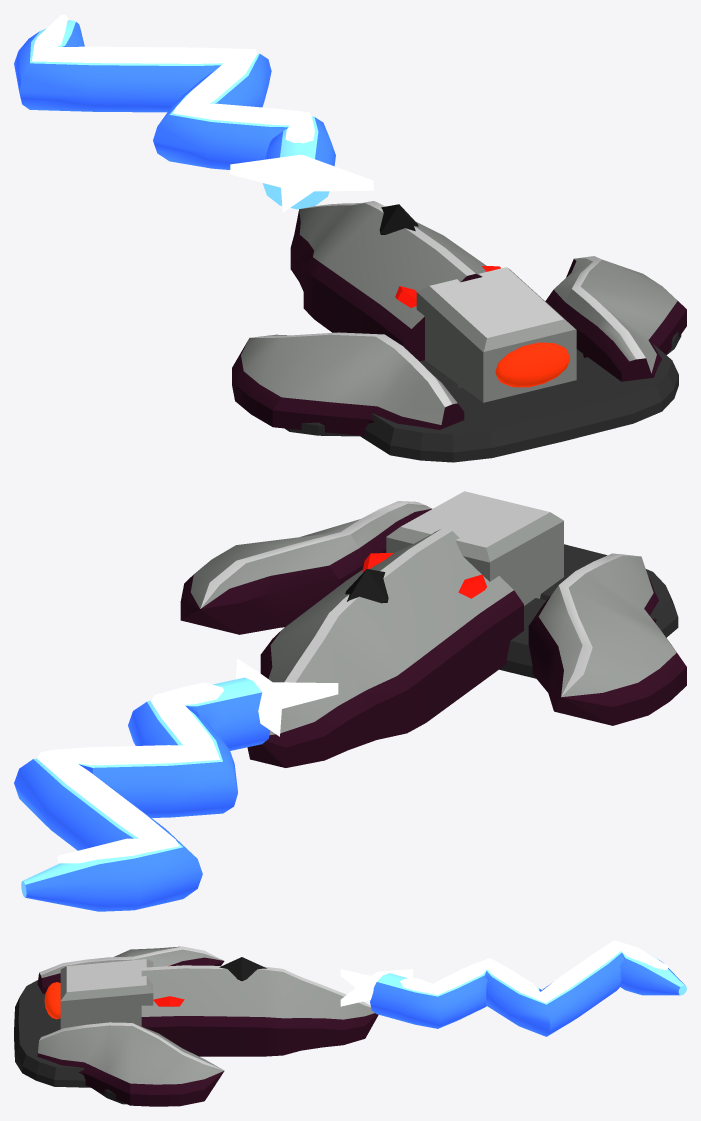
File: pu_lightning_zone.glb
3 renders of one model, top to bottom at view 1: azimuth 30°, elevation 25°; view 2: azimuth 150°, elevation 25°; view 3: azimuth 270°, elevation 25°, orthographic. The views are drawn at different scales.
Visible parts, largest first — view 1: bolt, blade_left, spire, base_rear, block, blade_right, bolt_core, bolt_flare_0, exhaust, base_front, bolt_flare_1, canopy; view 2: spire, bolt, blade_left, blade_right, block, bolt_core, base_rear, bolt_flare_0, base_front, bolt_flare_1, canopy; view 3: spire, bolt, blade_right, block, bolt_core, base_rear, blade_left, bolt_flare_0, canopy, exhaust, bolt_flare_1.
Boxes of the visible parts, left/top/right/bottom form: bolt: left=14, top=20, right=335, bottom=209; blade_left: left=232, top=332, right=464, bottom=435; spire: left=290, top=201, right=486, bottom=361; base_rear: left=360, top=344, right=678, bottom=462; block: left=416, top=267, right=576, bottom=402; blade_right: left=545, top=256, right=686, bottom=381; bolt_core: left=32, top=14, right=314, bottom=143; bolt_flare_0: left=230, top=154, right=373, bottom=191; exhaust: left=495, top=342, right=569, bottom=387; base_front: left=284, top=332, right=681, bottom=436; bolt_flare_1: left=281, top=175, right=313, bottom=212; canopy: left=379, top=204, right=418, bottom=234; spire: left=247, top=528, right=523, bottom=767; bolt: left=14, top=677, right=270, bottom=911; blade_left: left=528, top=553, right=686, bottom=725; blade_right: left=180, top=501, right=431, bottom=634; block: left=386, top=491, right=563, bottom=605; bolt_core: left=37, top=682, right=224, bottom=863; base_rear: left=540, top=544, right=678, bottom=637; bolt_flare_0: left=236, top=658, right=281, bottom=736; base_front: left=499, top=598, right=546, bottom=678; bolt_flare_1: left=273, top=682, right=338, bottom=708; canopy: left=345, top=569, right=388, bottom=603; spire: left=141, top=965, right=378, bottom=1056; bolt: left=370, top=951, right=686, bottom=1036; blade_right: left=37, top=1022, right=224, bottom=1106; block: left=60, top=959, right=153, bottom=1028; bolt_core: left=400, top=940, right=668, bottom=1002; base_rear: left=14, top=980, right=89, bottom=1087; blade_left: left=37, top=946, right=224, bottom=993; bolt_flare_0: left=340, top=969, right=413, bottom=1006; canopy: left=219, top=957, right=266, bottom=980; exhaust: left=44, top=982, right=60, bottom=1019; bolt_flare_1: left=340, top=969, right=370, bottom=987.
Bounding box in the file's own units: 13.1 × 3.48 × 26.18.
